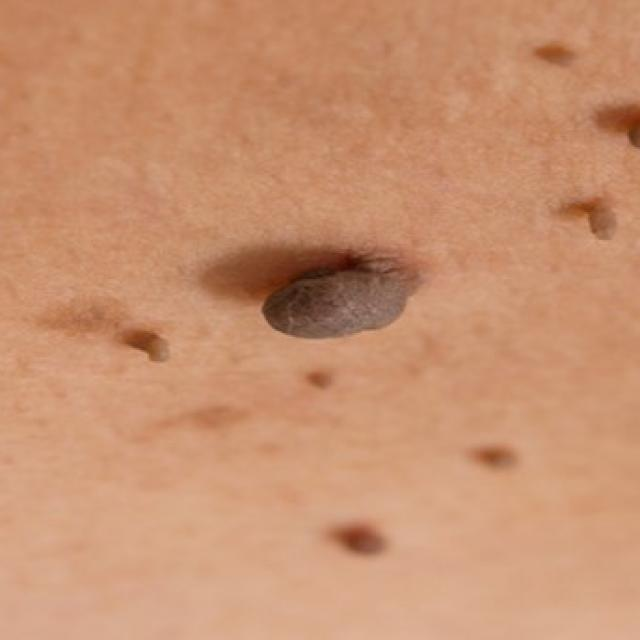wart: (254, 250, 420, 340), (108, 318, 180, 368), (324, 520, 391, 564), (582, 186, 625, 242), (465, 442, 519, 474), (298, 362, 346, 397), (617, 92, 640, 156)
